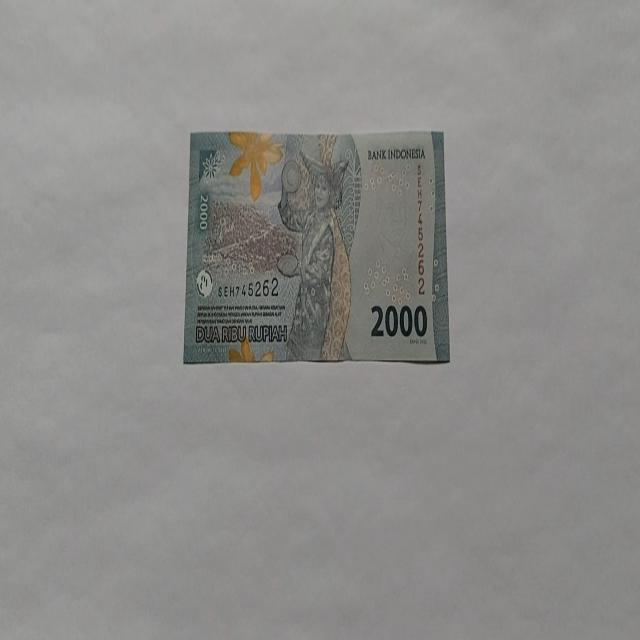dua ribu rupiah: (182, 127, 450, 366), (276, 146, 352, 362)
